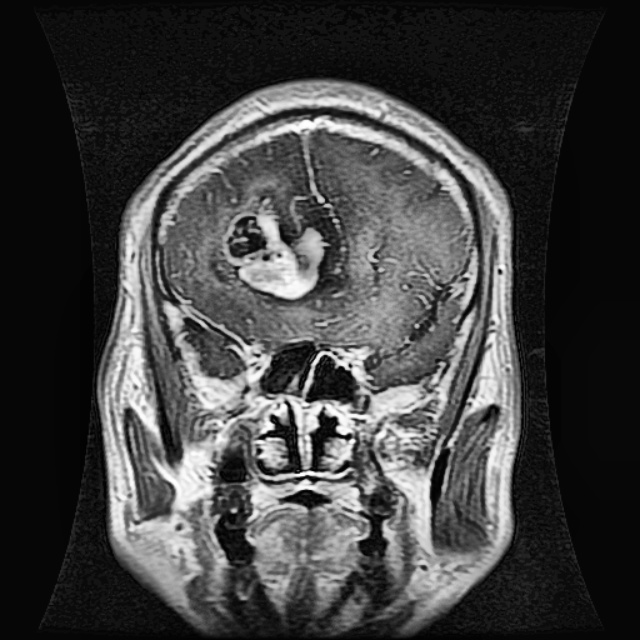Meningioma: (224, 184, 323, 299)
